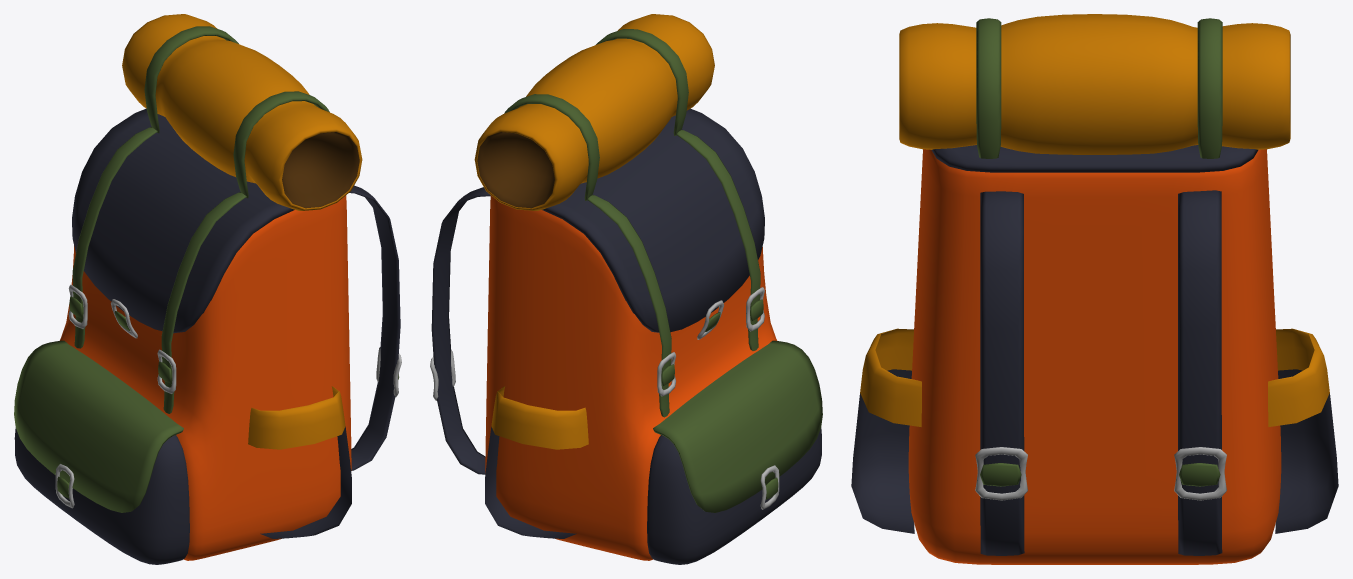
File: tas.fbx
The picture shows the model from 3 angles, left to right: view 1: azimuth 30°, elevation 25°; view 2: azimuth 150°, elevation 25°; view 3: azimuth 270°, elevation 25°; orthographic projection. The views are drawn at different scales.
Parts seen in each view (by area): view 1: bag, sleepingbag, Plane.004; view 2: bag, sleepingbag, Plane.004; view 3: bag, sleepingbag, Plane.004.
Part boxes in pixels (x1=…): bag: x1=14, y1=26, x2=400, y2=564; sleepingbag: x1=122, y1=14, x2=362, y2=210; Plane.004: x1=55, y1=284, x2=401, y2=508; bag: x1=431, y1=29, x2=822, y2=564; sleepingbag: x1=474, y1=14, x2=714, y2=210; Plane.004: x1=430, y1=287, x2=779, y2=509; bag: x1=851, y1=18, x2=1338, y2=564; sleepingbag: x1=899, y1=14, x2=1290, y2=154; Plane.004: x1=975, y1=447, x2=1226, y2=500.
Bounding box in the file's own units: 357 × 499 × 413.
